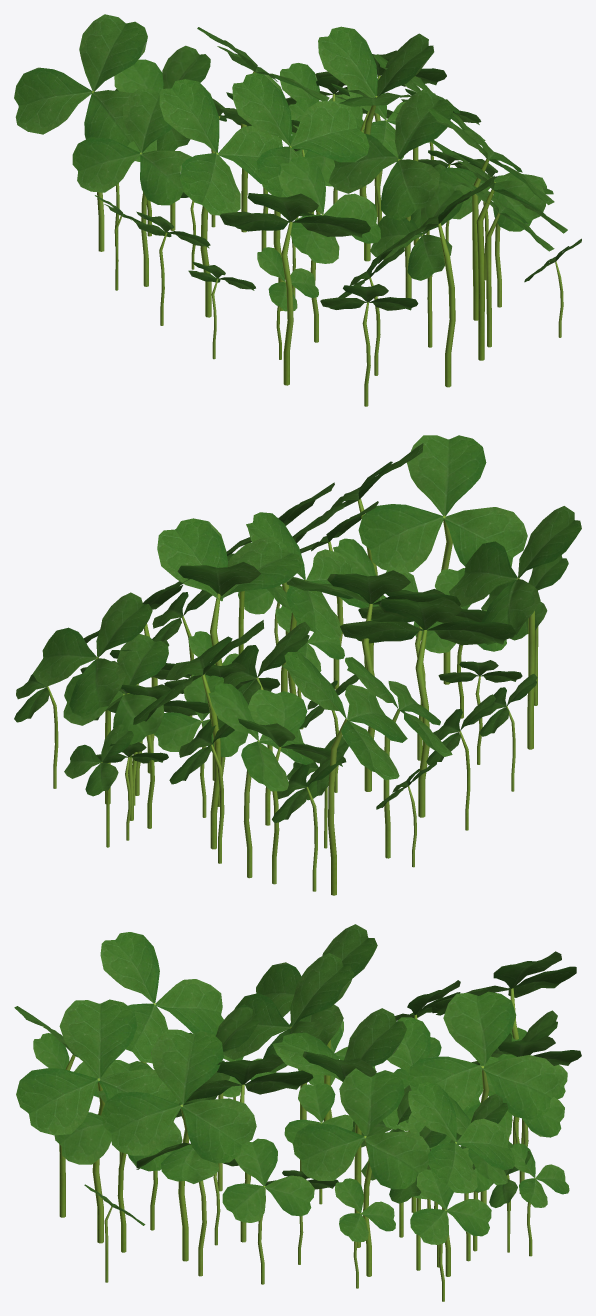
Rendered from clover_grass.glb.
3 views of the same model, one above another, from view 1: azimuth 30°, elevation 25°; view 2: azimuth 150°, elevation 25°; view 3: azimuth 270°, elevation 25° (orthographic). The views are drawn at different scales.
Visible parts, largest first — view 1: foli, trunks; view 2: foli, trunks; view 3: foli, trunks.
Boxes of the visible parts, x1,y1,x2,y2 form: foli: (14, 14, 581, 311); trunks: (92, 71, 563, 406); foli: (14, 435, 581, 823); trunks: (47, 498, 538, 895); foli: (14, 924, 581, 1244); trunks: (59, 988, 535, 1301).
Bounding box in the file's own units: 198 × 104 × 239.
Materials: 2 (2 with a texture image).
